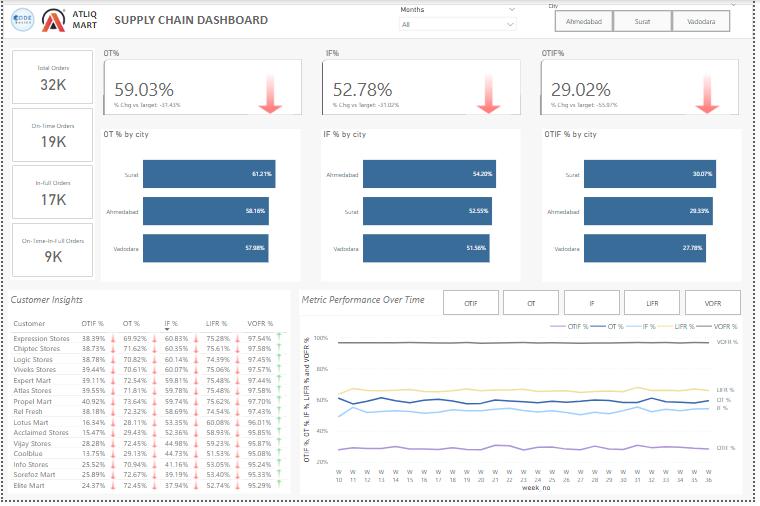

Layout of this report page (visuals, bound fields, positions):
{"tool":"powerbi","page":{"name":"Order Analysis","canvas":[1600,1000],"ordinal":2},"visuals":[{"type":"textbox","box":[258,50,454,62],"z":0},{"type":"image","box":[91.6,596.7,109.5,96.1],"z":0,"group":"g2"},{"type":"slicer","fields":{"Values":["dim_customers.city"]},"box":[1112,42,394,52],"z":1000},{"type":"slicer","fields":{"Values":["Calendar.Month"]},"box":[784,40,256,70],"z":2000},{"type":"actionButton","box":[107.2,393.3,78.2,98.3],"z":2000,"group":"g2"},{"type":"cardVisual","title":"OT %","fields":{"Data":["Measure.OT %"]},"box":[320,110,240,142],"z":3000},{"type":"actionButton","box":[107.2,498.3,98.3,98.3],"z":3000,"group":"g2"},{"type":"clusteredBarChart","fields":{"Category":["dim_customers.city"],"Y":["Measure.OT %"]},"box":[258,252,396,270],"z":4000},{"type":"clusteredBarChart","fields":{"Category":["dim_customers.city"],"Y":["Measure.IF %"]},"box":[682,252,400,270],"z":5000},{"type":"clusteredBarChart","title":"OTIF % by City","fields":{"Category":["dim_customers.city"],"Y":["Measure.OTIF %"]},"box":[1108,252,398,270],"z":6000},{"type":"tableEx","fields":{"Values":["dim_customers.customer_name","Measure.OTIF %","Measure.OT %","Measure.IF %","Measure.LIFR %","Measure.VOFR %"]},"box":[242.4,599.3,479.3,322.1],"z":7000,"group":"g1"},{"type":"lineChart","title":"Metric","fields":{"Y":["Measure.OTIF %","Measure.OT %","Measure.IF %","Measure.LIFR %","Measure.VOFR %"],"Category":["Calendar.Date Hierarchy.Month","Calendar.Date Hierarchy.Week","Calendar.Date Hierarchy.Day"]},"box":[748,642,758,294],"z":7000},{"type":"bookmarkNavigator","title":"Metrics Navigator","box":[1040,538,468,52],"z":13000},{"type":"textbox","box":[748,554,288,52],"z":14000},{"type":"cardVisual","title":"IF %","fields":{"Data":["Measure.IF %"]},"box":[748,110,240,142],"z":15000},{"type":"cardVisual","title":"OTIF %","fields":{"Data":["Measure.OTIF %"]},"box":[1192,112,240,142],"z":16000},{"type":"group","id":"g1","title":"Group 1","box":[242,554,480,368],"z":17000},{"type":"textbox","box":[73.7,712.8,149.7,239.1],"z":18000},{"type":"group","id":"g2","title":"Group 1","box":[91.6,393.3,114,299.4],"z":19000},{"type":"textbox","box":[242,554,479.2,45.1],"z":20000,"group":"g1"}]}

Visuals, with their boxes on the page's 1600x1000 design canvas (x1, y1, x2, y2). These are canvas units, not pixel positions in the 760x506 screenshot, which may show the page scaled, cropped or inside an application window:
textbox: {"left": 258, "top": 50, "right": 712, "bottom": 112}
image: {"left": 92, "top": 597, "right": 201, "bottom": 693}
slicer - dim_customers.city: {"left": 1112, "top": 42, "right": 1506, "bottom": 94}
slicer - Calendar.Month: {"left": 784, "top": 40, "right": 1040, "bottom": 110}
actionButton: {"left": 107, "top": 393, "right": 185, "bottom": 492}
"OT %" cardVisual: {"left": 320, "top": 110, "right": 560, "bottom": 252}
actionButton: {"left": 107, "top": 498, "right": 206, "bottom": 597}
clusteredBarChart - dim_customers.city x Measure.OT %: {"left": 258, "top": 252, "right": 654, "bottom": 522}
clusteredBarChart - dim_customers.city x Measure.IF %: {"left": 682, "top": 252, "right": 1082, "bottom": 522}
"OTIF % by City" clusteredBarChart: {"left": 1108, "top": 252, "right": 1506, "bottom": 522}
tableEx - dim_customers.customer_name x Measure.OTIF %: {"left": 242, "top": 599, "right": 722, "bottom": 921}
"Metric" lineChart: {"left": 748, "top": 642, "right": 1506, "bottom": 936}
"Metrics Navigator" bookmarkNavigator: {"left": 1040, "top": 538, "right": 1508, "bottom": 590}
textbox: {"left": 748, "top": 554, "right": 1036, "bottom": 606}
"IF %" cardVisual: {"left": 748, "top": 110, "right": 988, "bottom": 252}
"OTIF %" cardVisual: {"left": 1192, "top": 112, "right": 1432, "bottom": 254}
"Group 1" group: {"left": 242, "top": 554, "right": 722, "bottom": 922}
textbox: {"left": 74, "top": 713, "right": 223, "bottom": 952}
"Group 1" group: {"left": 92, "top": 393, "right": 206, "bottom": 693}
textbox: {"left": 242, "top": 554, "right": 721, "bottom": 599}
